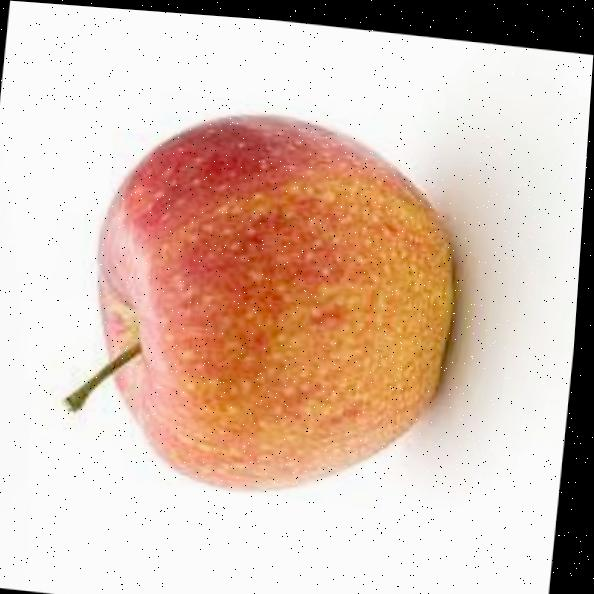HEALTHY: (57, 80, 502, 534)
